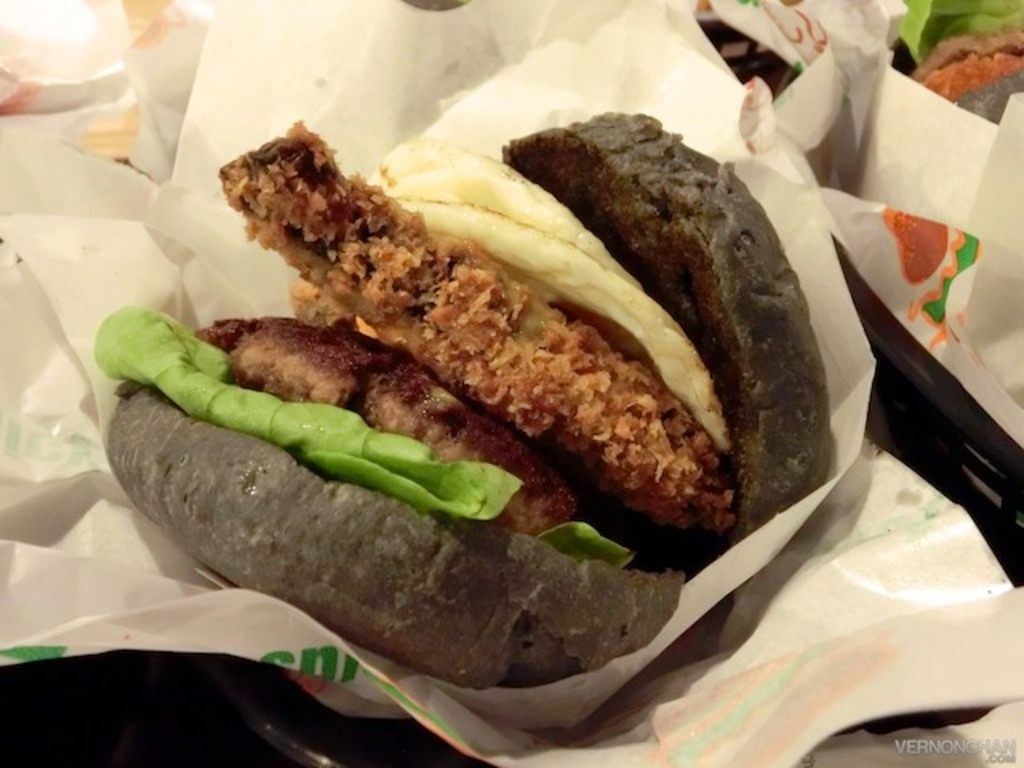Hamburger: (86, 104, 814, 680)
